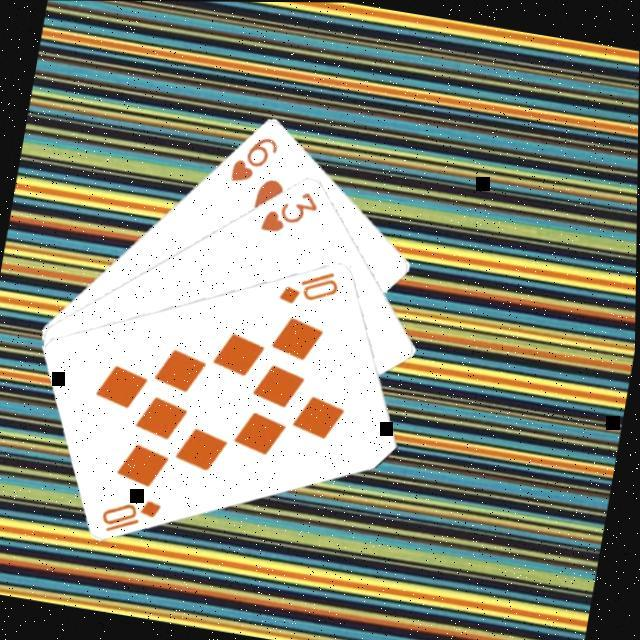10D: (94, 490, 166, 544), (272, 262, 344, 315)
3H: (254, 182, 322, 243)
6H: (223, 128, 280, 192)
